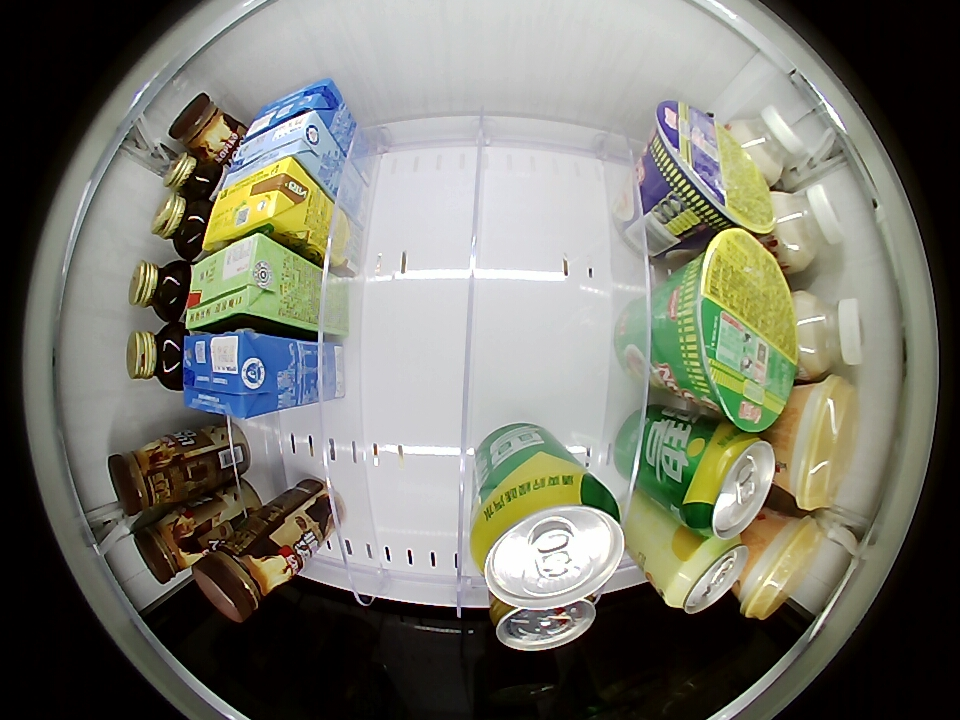heweidao: (649, 101, 774, 235)
heweidao2: (672, 229, 798, 430)
hongniu2: (489, 594, 597, 651)
libaojian: (149, 194, 213, 260), (126, 323, 188, 391), (127, 259, 191, 322), (162, 152, 220, 201)
lujikafei: (192, 521, 296, 623), (131, 508, 208, 585), (107, 437, 182, 516), (168, 92, 238, 160)
mangguoxiaolao: (662, 533, 748, 614)
wanglaoji: (184, 233, 287, 332)
weitanai: (181, 329, 286, 420), (244, 79, 343, 136)
weitanaiditang: (223, 111, 330, 185)
weitaningmeng: (204, 157, 314, 250)
weiweidounai: (767, 182, 844, 271), (793, 290, 865, 377), (729, 106, 805, 184)
xuebi2: (471, 464, 626, 609), (677, 428, 777, 538)
youlemei: (781, 375, 857, 510), (739, 512, 823, 619)
